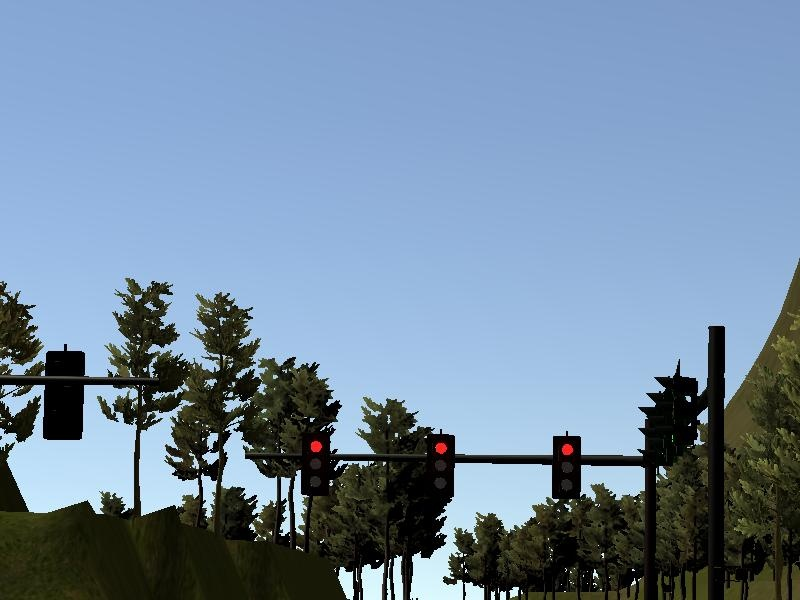red: (550, 429, 585, 503), (425, 430, 458, 504), (299, 427, 331, 497)
